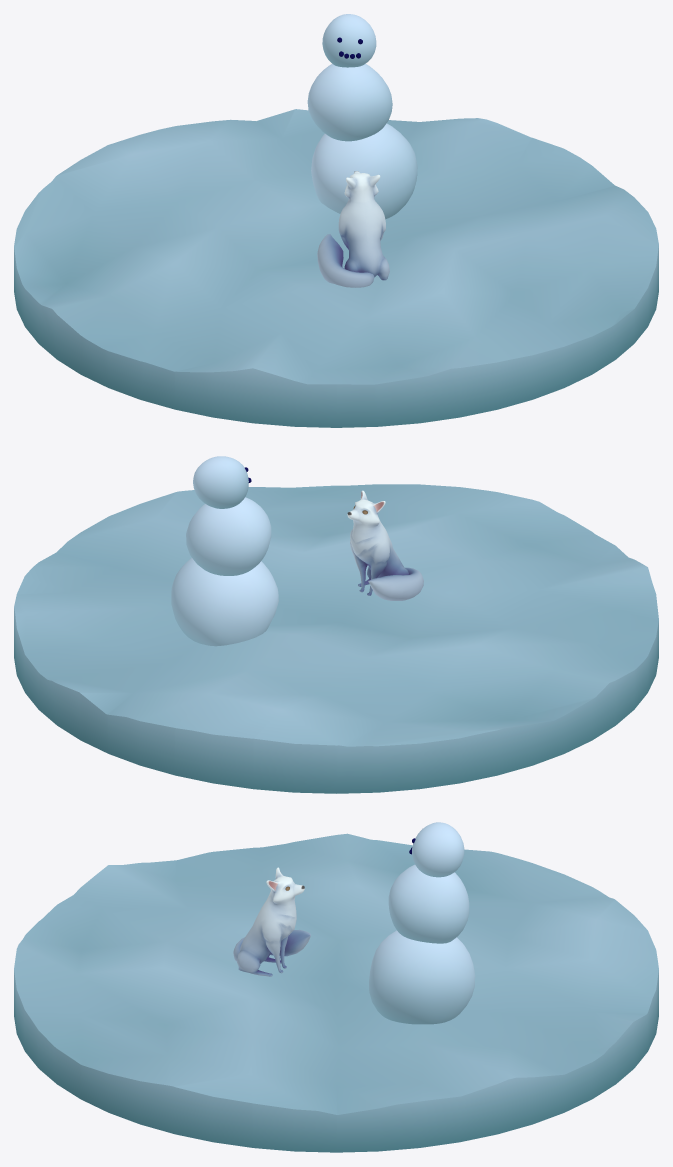
3 views of the same model, one above another, from view 1: azimuth 30°, elevation 25°; view 2: azimuth 150°, elevation 25°; view 3: azimuth 270°, elevation 25° (orthographic).
Visible parts, largest first — view 1: Ground, Snowman, SnowFox_Fox_0; view 2: Ground, Snowman, SnowFox_Fox_0; view 3: Ground, Snowman, SnowFox_Fox_0.
Boxes of the visible parts, <box> form: Ground: <box>14,109,658,427</box>; Snowman: <box>307,14,417,219</box>; SnowFox_Fox_0: <box>317,171,389,287</box>; Ground: <box>14,484,658,793</box>; Snowman: <box>171,456,278,646</box>; SnowFox_Fox_0: <box>347,490,423,600</box>; Ground: <box>14,833,658,1152</box>; Snowman: <box>369,822,475,1024</box>; SnowFox_Fox_0: <box>233,867,310,976</box>.
Bounding box in the file's own units: 230 × 87.07 × 230.
Materials: 2 (2 with a texture image).
